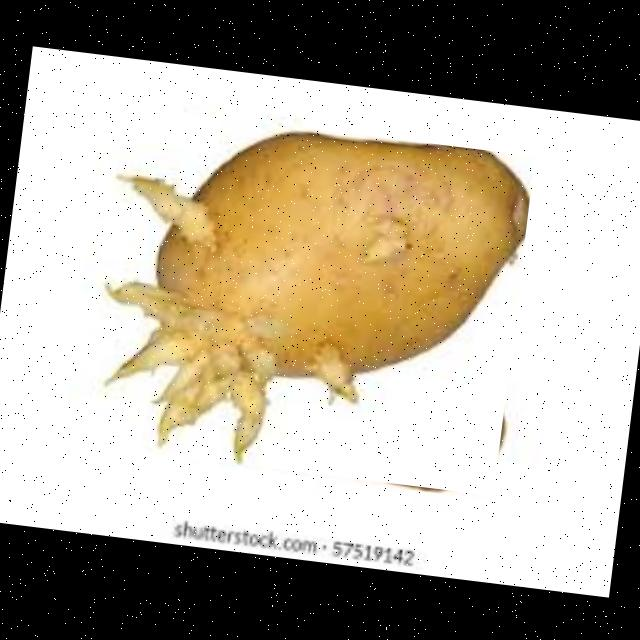Sprouted potato: (75, 103, 534, 494)
